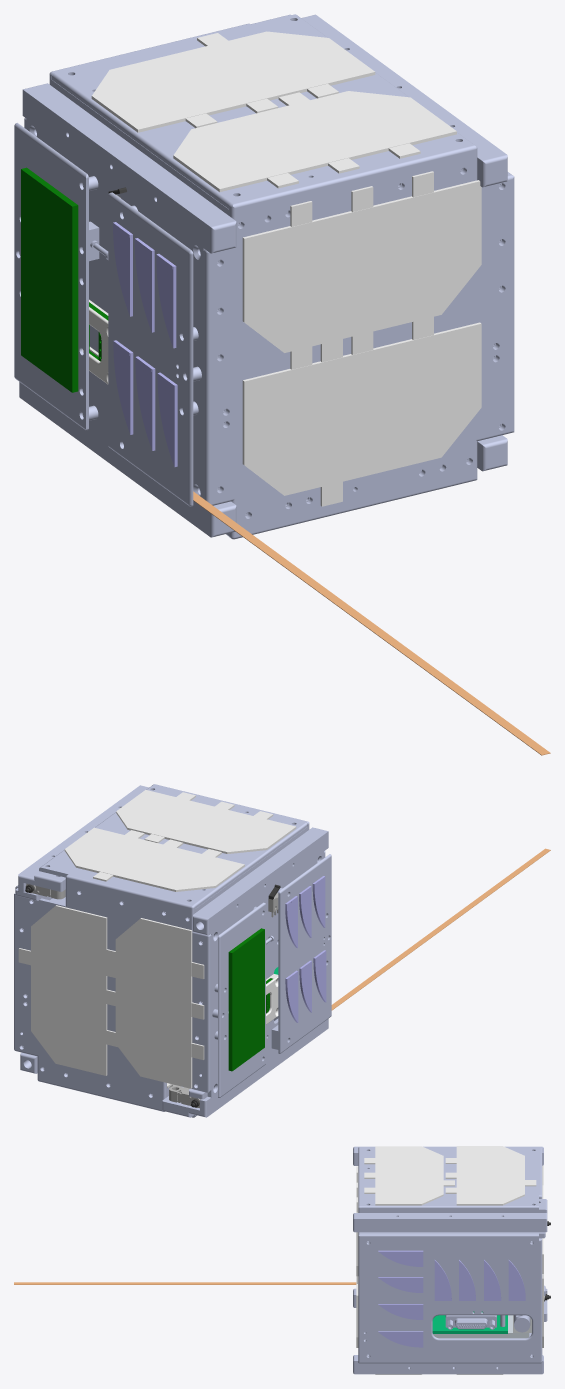
File: ITF-2.fbx
The picture shows the model from 3 angles, top to bottom: view 1: azimuth 30°, elevation 25°; view 2: azimuth 150°, elevation 25°; view 3: azimuth 270°, elevation 25°; orthographic projection. The views are drawn at different scales.
Visible parts, largest first — view 1: Body1 (×23); view 2: Body1 (×22); view 3: Body1 (×22).
Part boxes in pixels (<box>): Body1 (×23): <box>14,14,550,755</box>; Body1 (×22): <box>14,785,550,1117</box>; Body1 (×22): <box>14,1146,547,1374</box>.
Size of the model in its own units: 112 by 110 by 314.
